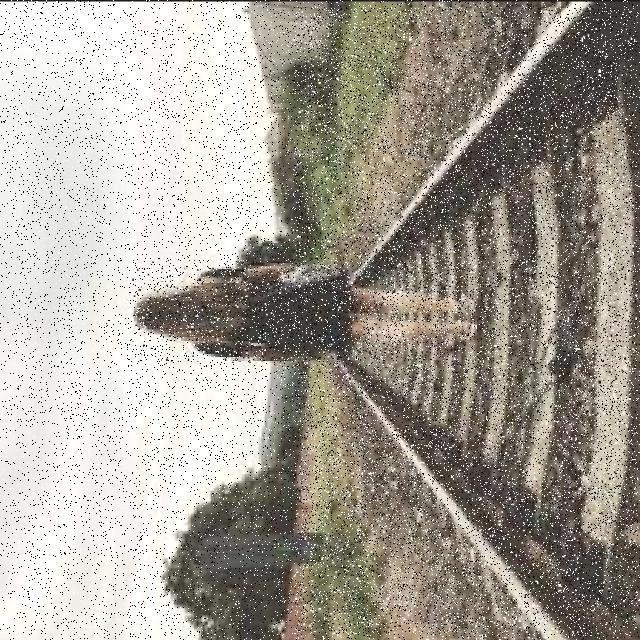danger: (133, 260, 478, 362)
rail: (295, 8, 638, 636)
